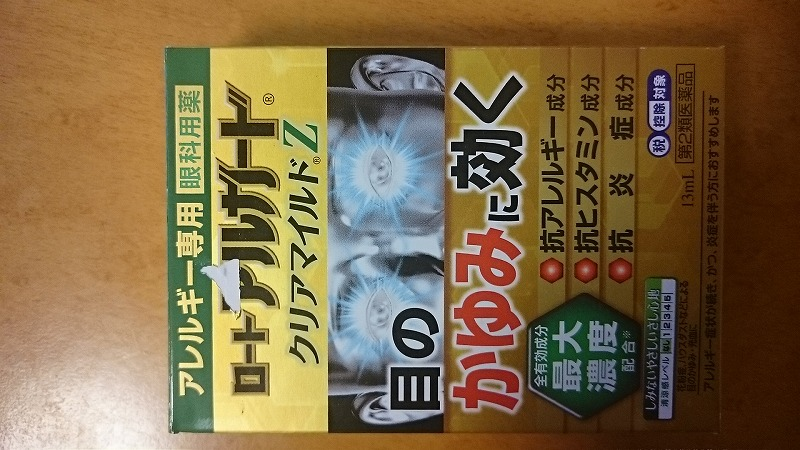C: (155, 42, 735, 440)
